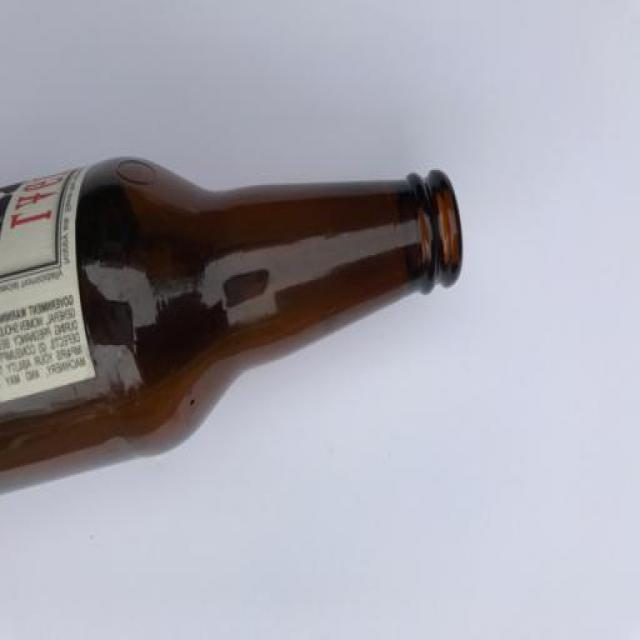glass: (0, 152, 465, 501)
